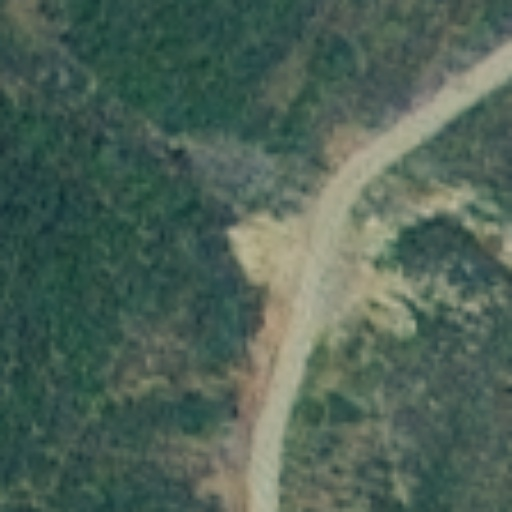landslide: (221, 206, 328, 283)
